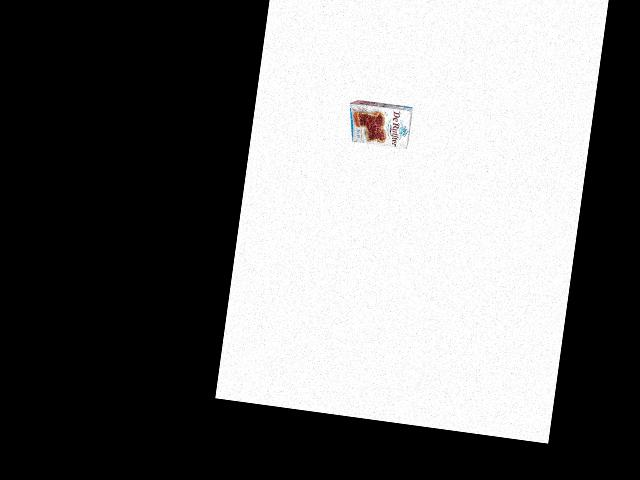chocolate: (345, 93, 417, 155)
